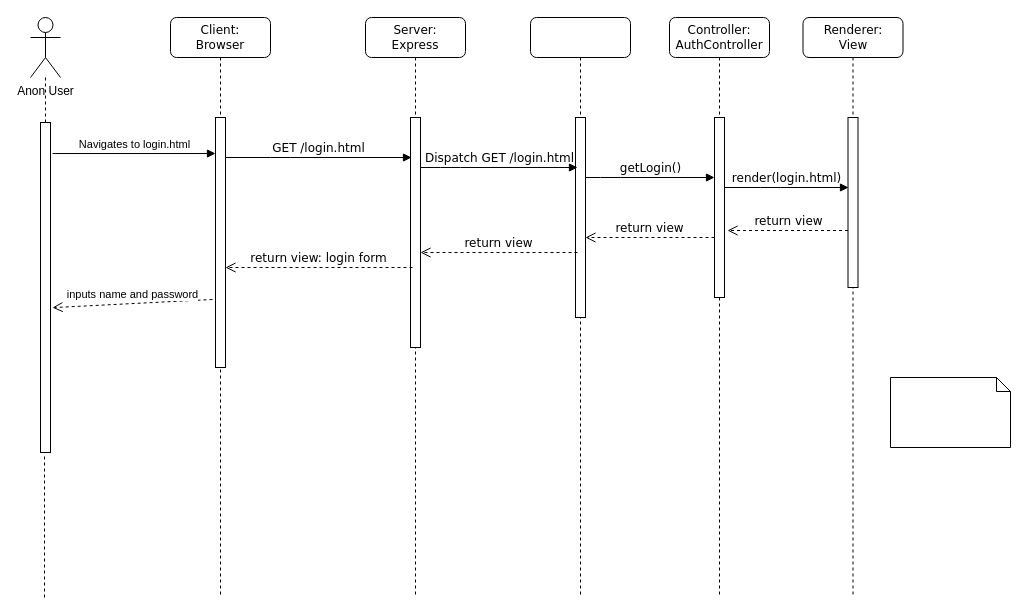
This 1028x616 diagram has some shape labels left out. The shapes that lost their labels are listed below. From the top down, each one's box as (x1, y1, x2, y2) in pixels, then its label:
(530, 16, 630, 598): Router
(890, 376, 1010, 448): UserStory: Login (Part 1 : GET)
